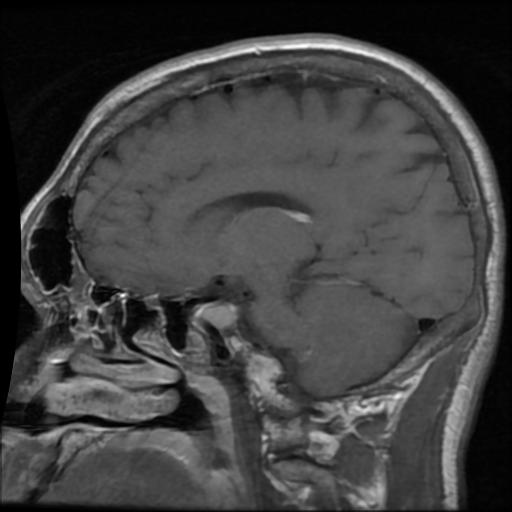Pituirity_tumour: (198, 299, 235, 326)
